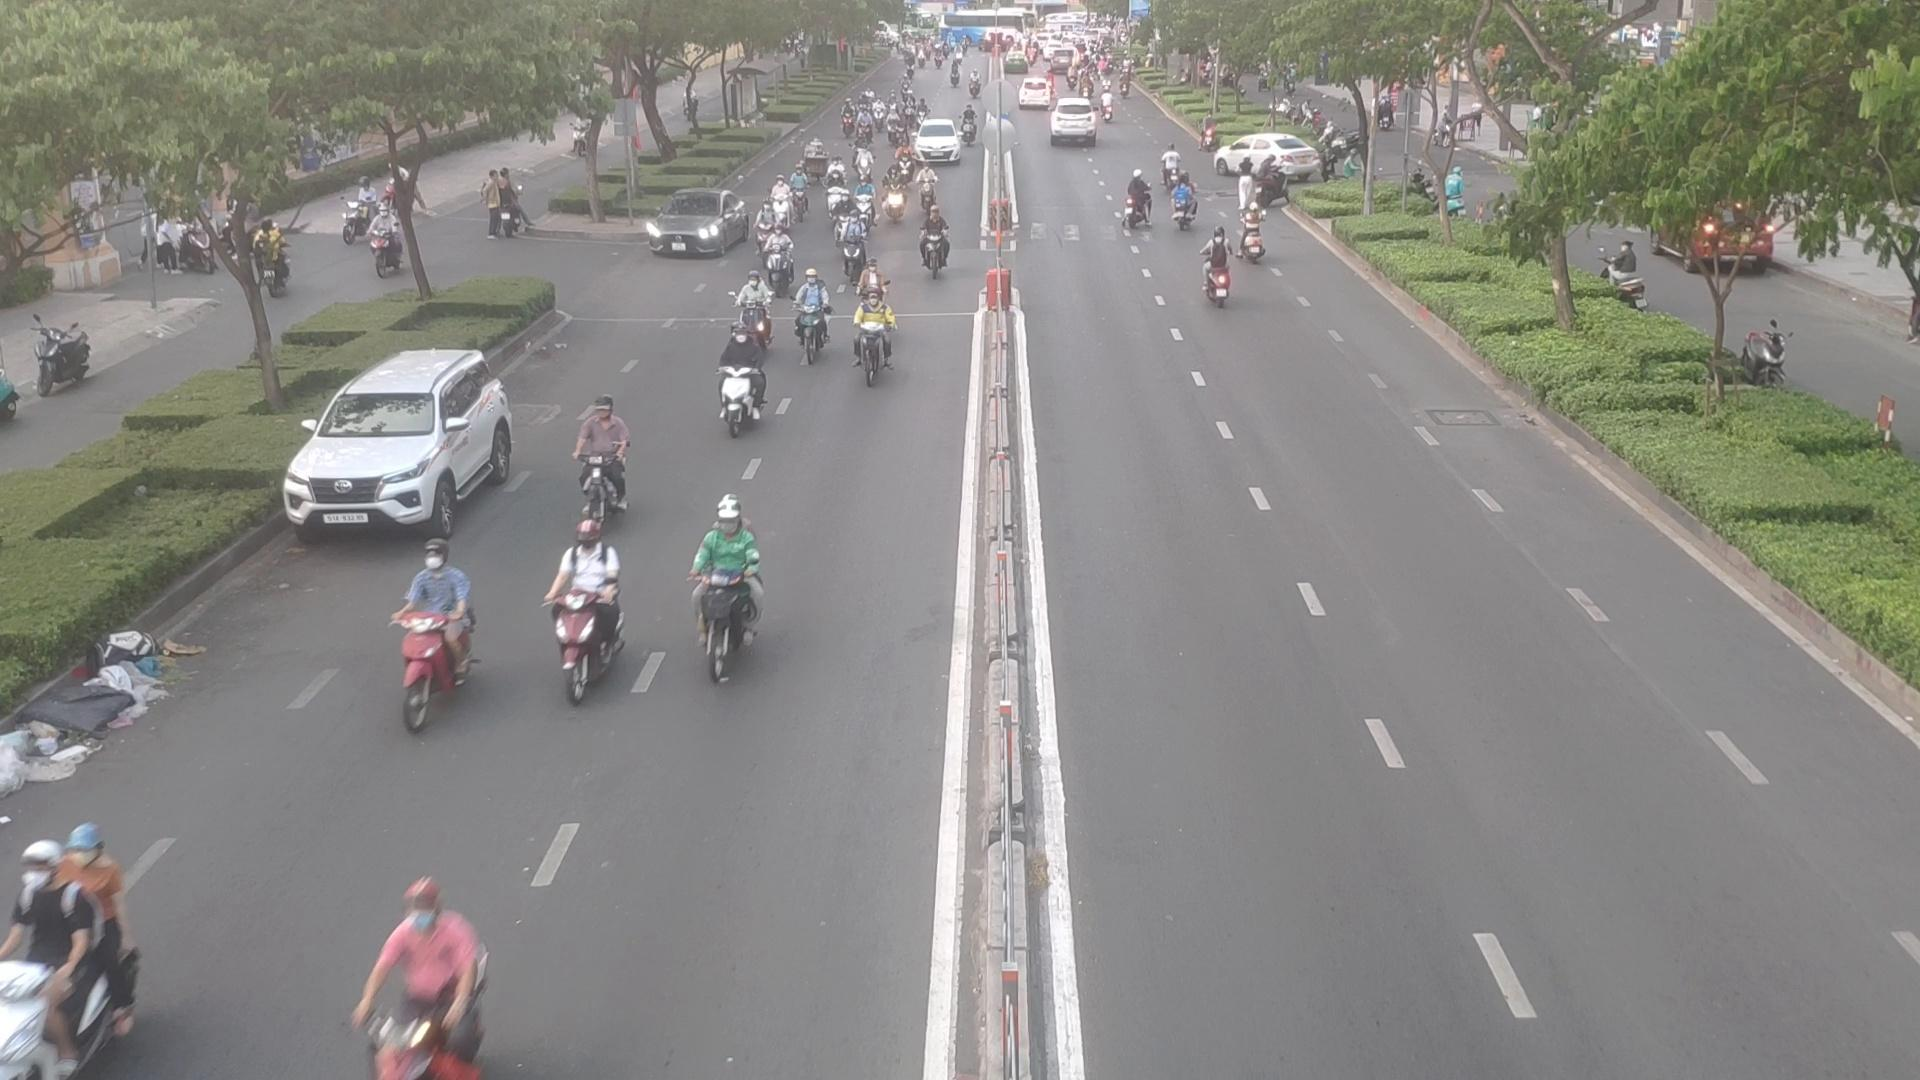car: (281, 345, 521, 535), (647, 193, 752, 260), (1216, 135, 1329, 185), (915, 121, 965, 164)
motorbike: (7, 833, 148, 1077), (351, 873, 475, 1080), (385, 535, 489, 742), (576, 400, 651, 551), (551, 529, 620, 683), (694, 506, 750, 686), (717, 324, 752, 419), (796, 270, 827, 369), (733, 280, 771, 351), (852, 298, 887, 375), (920, 204, 951, 277), (1203, 229, 1232, 301), (836, 214, 864, 278), (1240, 200, 1267, 265), (769, 225, 793, 289), (880, 167, 905, 219), (767, 177, 793, 225), (1171, 175, 1193, 225), (831, 193, 851, 243), (1160, 144, 1183, 186), (920, 166, 943, 204), (895, 140, 914, 185), (791, 164, 806, 220), (858, 178, 876, 218), (828, 170, 840, 214), (855, 146, 868, 179)
